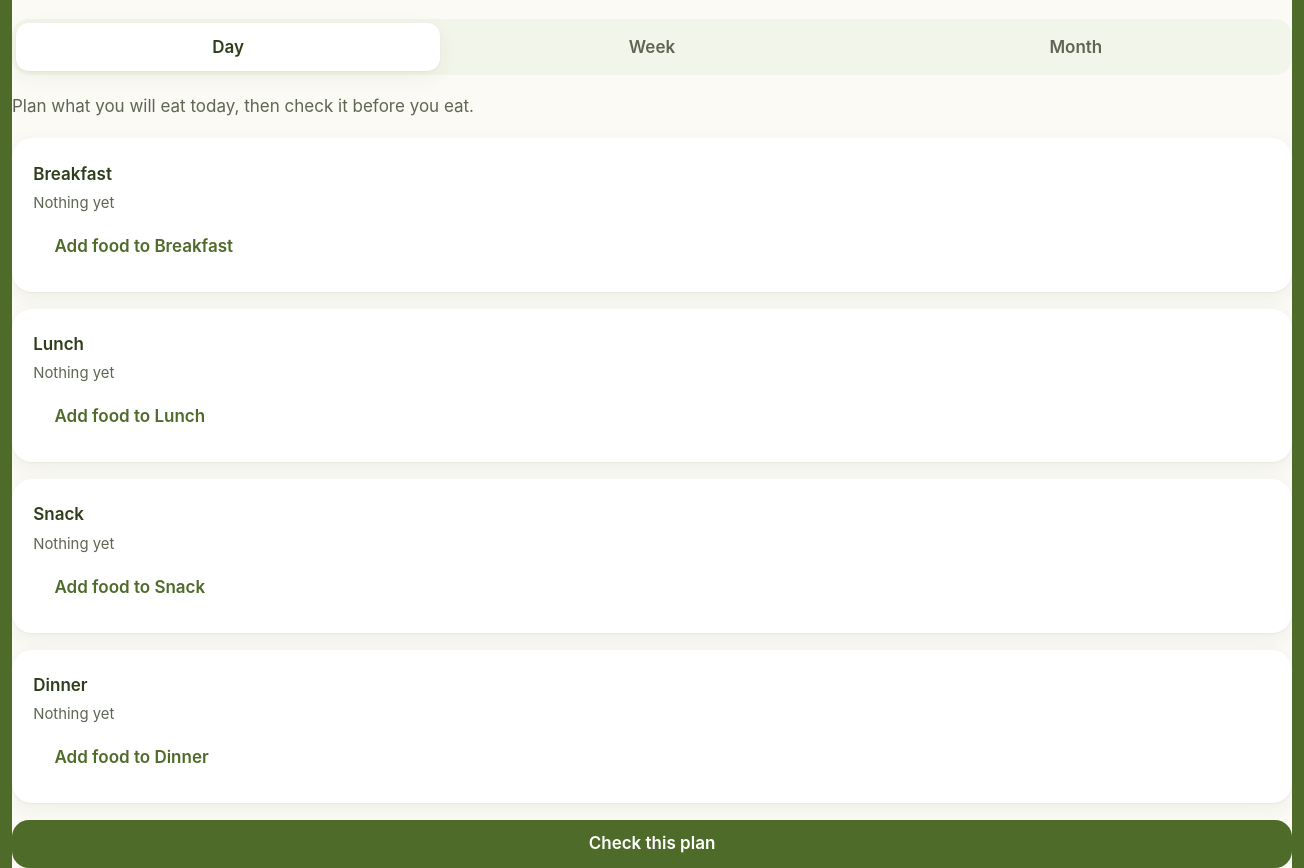
day plan › asks for a food before checking an empty plan
Click the button "Check this plan": (652, 844) [12,820,1292,867]
(page scrolled)
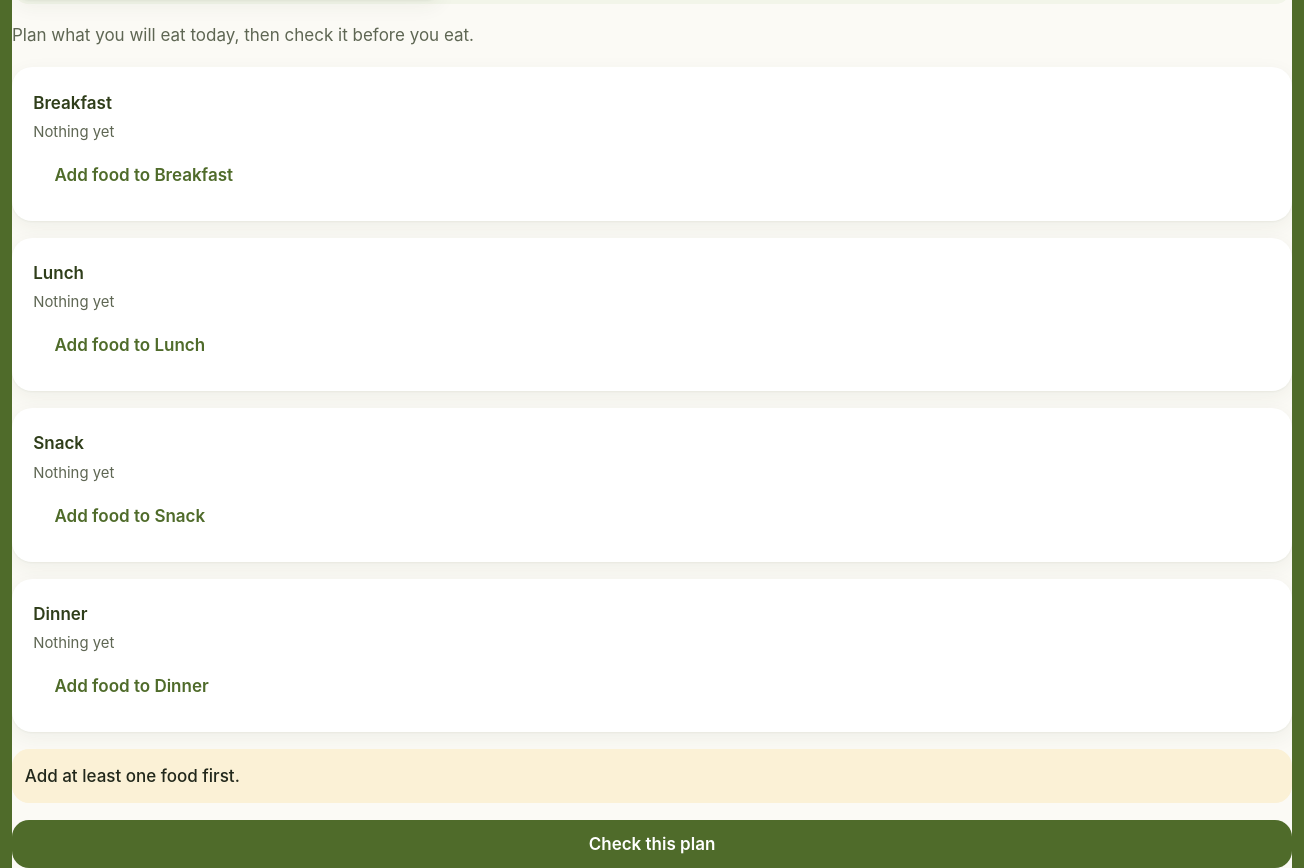
Check: the text "Add at least one food first." is shown, box [12,749,1292,803]
